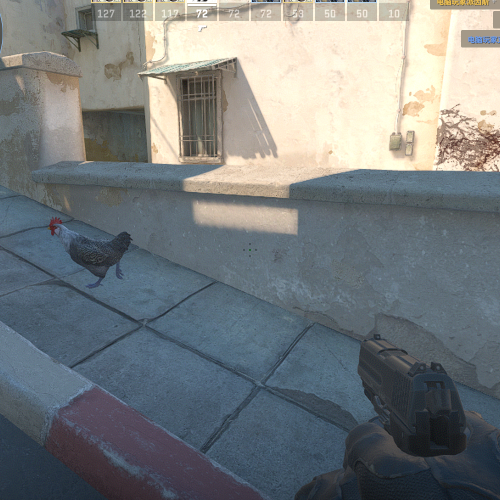chicken: (48, 214, 131, 289)
